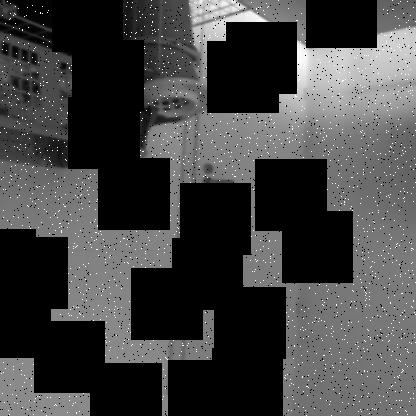Porte: (167, 1, 310, 397)
